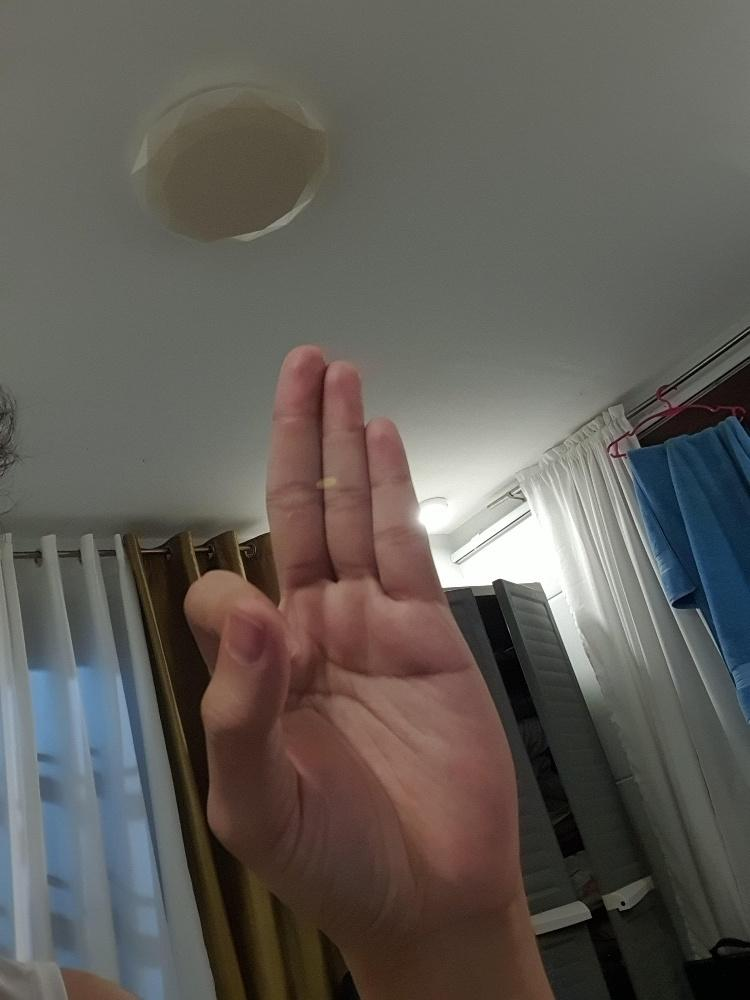f: (179, 337, 524, 943)
